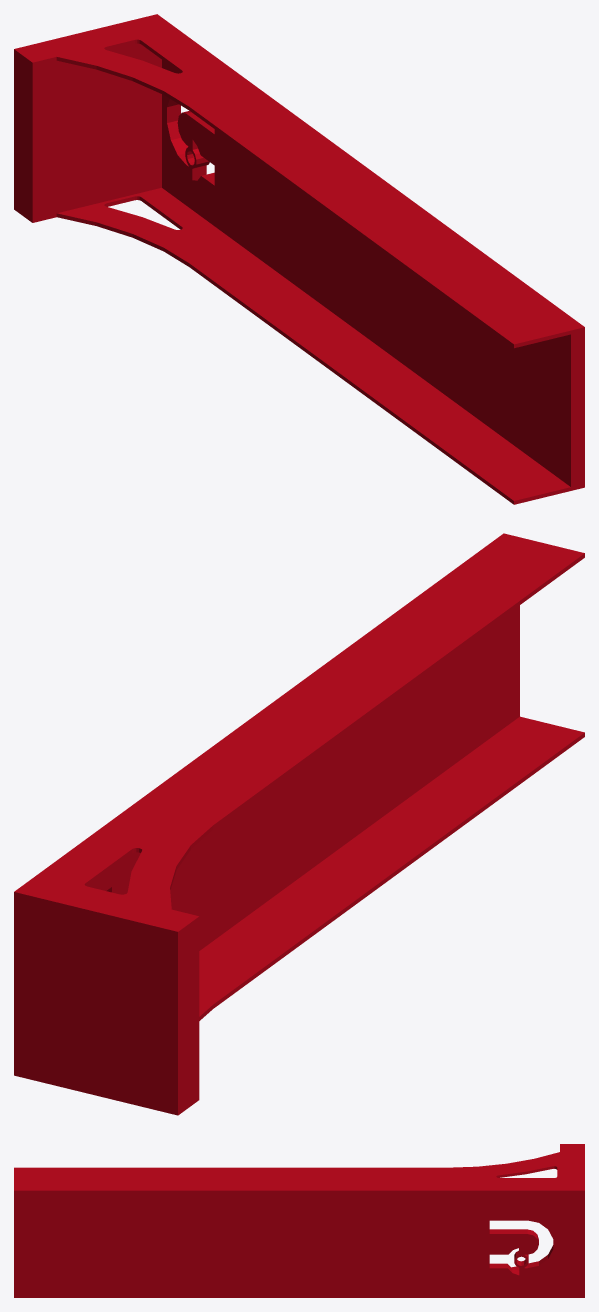
The model's file is GPS_mount_link.DAE.
3 renders of one model, top to bottom at view 1: azimuth 30°, elevation 25°; view 2: azimuth 150°, elevation 25°; view 3: azimuth 270°, elevation 25°, orthographic. The views are drawn at different scales.
Visible parts, largest first — view 1: GPS_mount_link; view 2: GPS_mount_link; view 3: GPS_mount_link.
Part boxes in pixels (left/top/right/bottom): GPS_mount_link: left=14, top=14, right=584, bottom=504; GPS_mount_link: left=14, top=533, right=584, bottom=1115; GPS_mount_link: left=14, top=1144, right=584, bottom=1297.
Size of the model in its own units: 0.0889 by 0.4595 by 0.0951.
